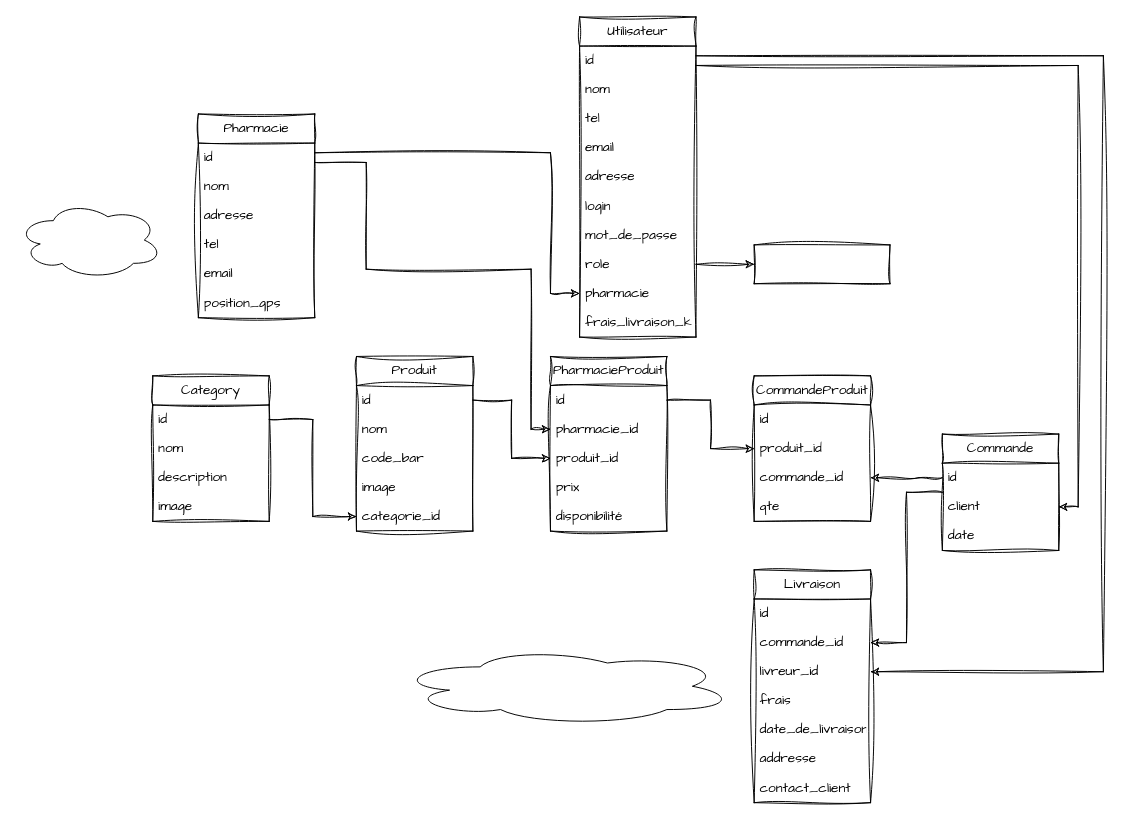
This 1128x820 diagram has some shape labels left out. Here are the shapes that lost their labels. From the top down, the centre of each, then its label:
the point at 89,239: gestion de stock
the point at 821,264: Admin, Livreur, Pharmacien, Client
the point at 564,686: app/service separée pour les livraison
